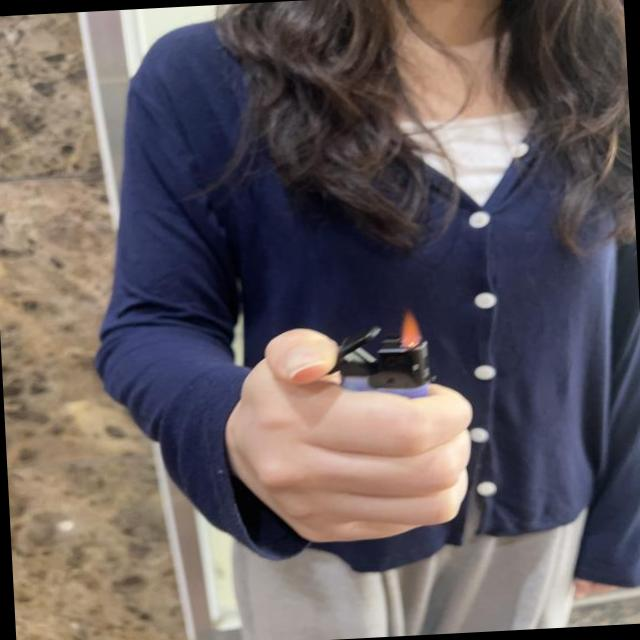Fire: (398, 310, 426, 348)
